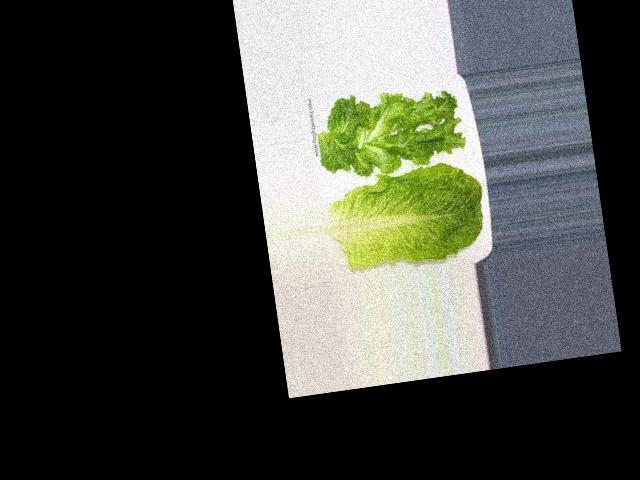lettuce: (326, 167, 482, 267)
